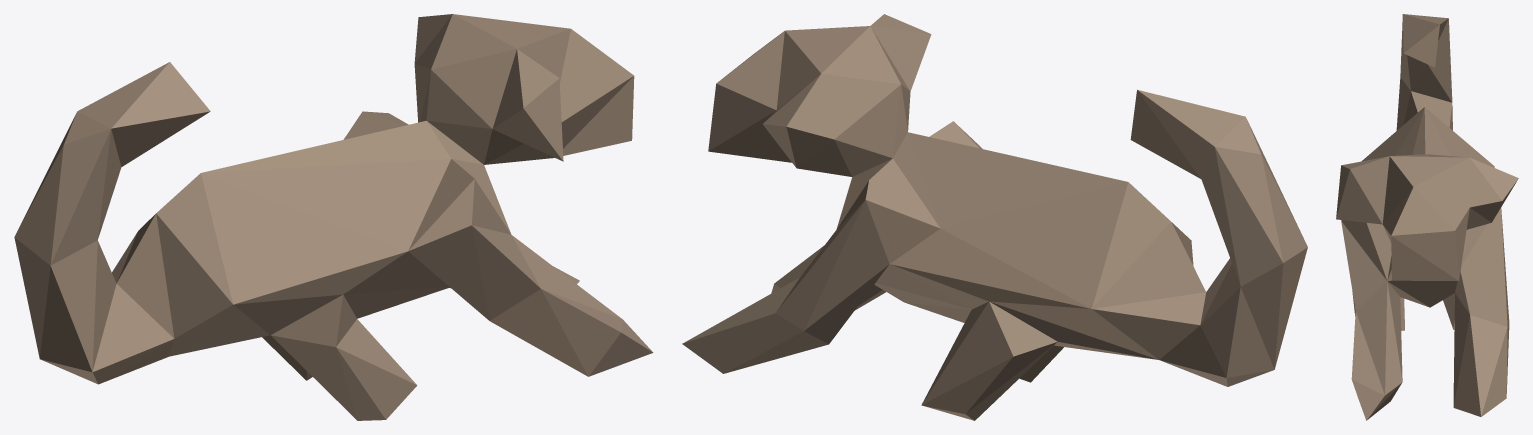
The picture shows the model from 3 angles, left to right: view 1: azimuth 30°, elevation 25°; view 2: azimuth 150°, elevation 25°; view 3: azimuth 270°, elevation 25°; orthographic projection. The views are drawn at different scales.
Parts seen in each view (by area): view 1: part0; view 2: part0; view 3: part0.
Part boxes in pixels (box(x1,y1,x2,y2)): part0: box(14, 14, 653, 420); part0: box(682, 14, 1307, 420); part0: box(1336, 14, 1518, 420).
Size of the model in its own units: 4.25 by 2.51 by 1.62.
